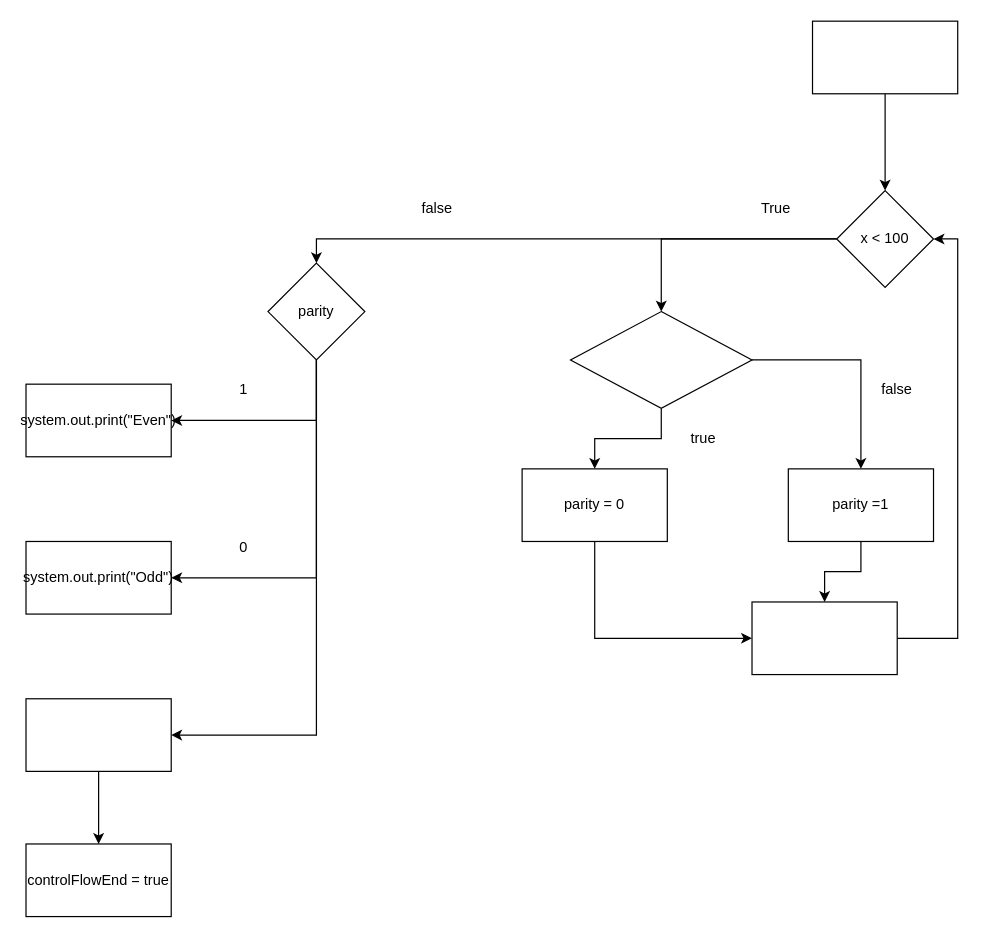
Image size: 989x938. Some labels were removed from this diagram. Here are the shapes that lost their labels. From the top down, the centre of each, then its label:
[884,57]: controlFlowEnd = false
[660,359]: x%2 == 0 &&! controlFlowEnd
[824,638]: x++
[98,734]: system.out.print("error")
